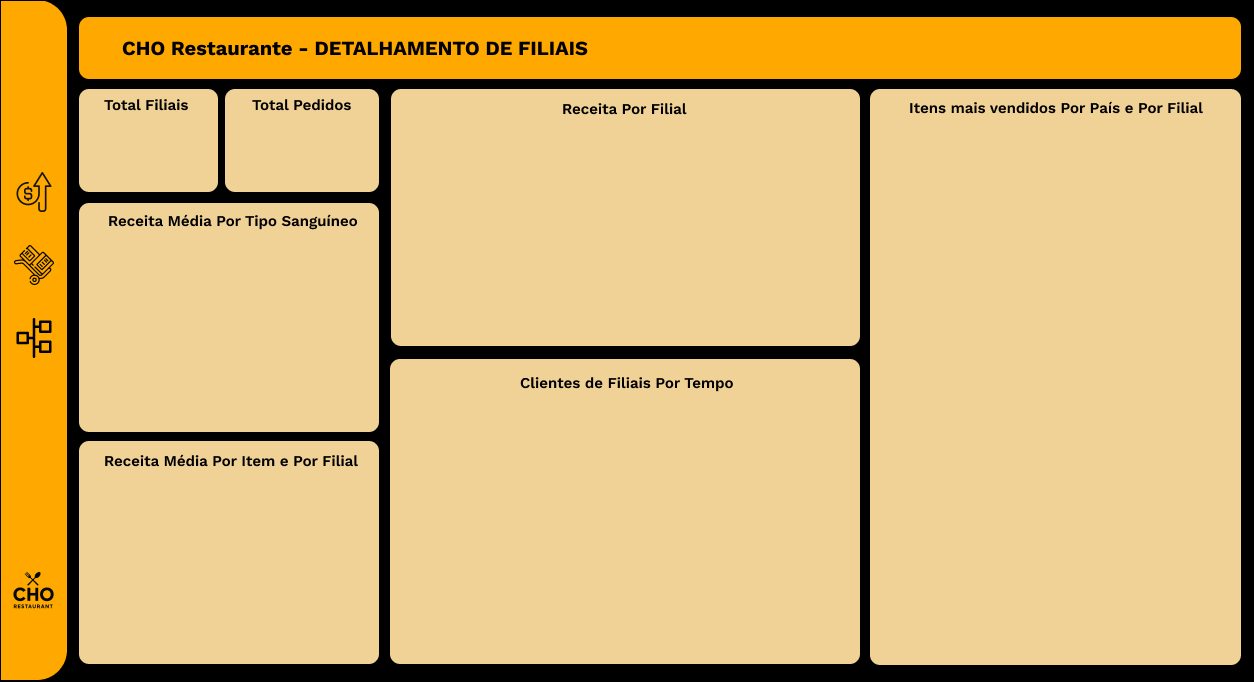

This screenshot's page, from the dashboard's own definition file:
{"tool":"powerbi","page":{"name":"Estudo Filiais","canvas":[1280,720],"ordinal":2},"visuals":[{"type":"actionButton","box":[0,172.1,70.9,68.6],"z":0},{"type":"actionButton","box":[0,241.9,70.9,68.6],"z":1000},{"type":"card","fields":{"Values":["Count(filialdimension.filialkey)"]},"box":[83.7,110.5,131.4,76.7],"z":2000},{"type":"card","fields":{"Values":["Count(receitafato. idpedido )"]},"box":[241.9,110.5,131.4,76.7],"z":3000},{"type":"slicer","fields":{"Values":["calendardimension. datacompleta "]},"box":[617.4,20.9,247.7,67.4],"z":4000},{"type":"slicer","fields":{"Values":["filialdimension.paisnome","filialdimension.filialid"]},"box":[847.7,17.4,170.9,72.1],"z":5000},{"type":"columnChart","fields":{"Y":["Sum(receitafato.itemprecovenda)"],"Category":["filialdimension.filialid"]},"box":[398.8,131.4,466.3,218.6],"z":6000},{"type":"pieChart","fields":{"Y":["Sum(receitafato.itemprecovenda)"],"Category":["itemdimension.tipsang","filialdimension.filialid"]},"box":[60.5,240.7,338.4,214],"z":7000},{"type":"pieChart","fields":{"Y":["Sum(receitafato.itemprecovenda)"],"Category":["filialdimension.filialid","itemdimension.itemnome"]},"box":[60.5,490.7,338.4,214],"z":8000},{"type":"columnChart","fields":{"Category":["filialdimension.filialid","clientedimension.clientenome"],"Y":["Avg(receitafato.itemprecovenda)"]},"box":[398.8,430.2,466.3,218.6],"z":9000},{"type":"barChart","fields":{"Category":["filialdimension.paisnome","filialdimension.filialid","itemdimension.itemnome"],"Y":["Sum(receitafato.itemprecovenda)"]},"box":[889.5,131.4,377.9,561.6],"z":9001}]}

Visuals, with their boxes on the page's 1280x720 design canvas (x1, y1, x2, y2). These are canvas units, not pixel positions in the 1254x682 screenshot, which may show the page scaled, cropped or inside an application window:
actionButton: select_region(0, 172, 71, 241)
actionButton: select_region(0, 242, 71, 310)
card - Count(filialdimension.filialkey): select_region(84, 110, 215, 187)
card - Count(receitafato. idpedido ): select_region(242, 110, 373, 187)
slicer - calendardimension. datacompleta : select_region(617, 21, 865, 88)
slicer - filialdimension.paisnome x filialdimension.filialid: select_region(848, 17, 1019, 90)
columnChart - Sum(receitafato.itemprecovenda) x filialdimension.filialid: select_region(399, 131, 865, 350)
pieChart - Sum(receitafato.itemprecovenda) x itemdimension.tipsang: select_region(60, 241, 399, 455)
pieChart - Sum(receitafato.itemprecovenda) x filialdimension.filialid: select_region(60, 491, 399, 705)
columnChart - filialdimension.filialid x clientedimension.clientenome: select_region(399, 430, 865, 649)
barChart - filialdimension.paisnome x filialdimension.filialid: select_region(890, 131, 1267, 693)
